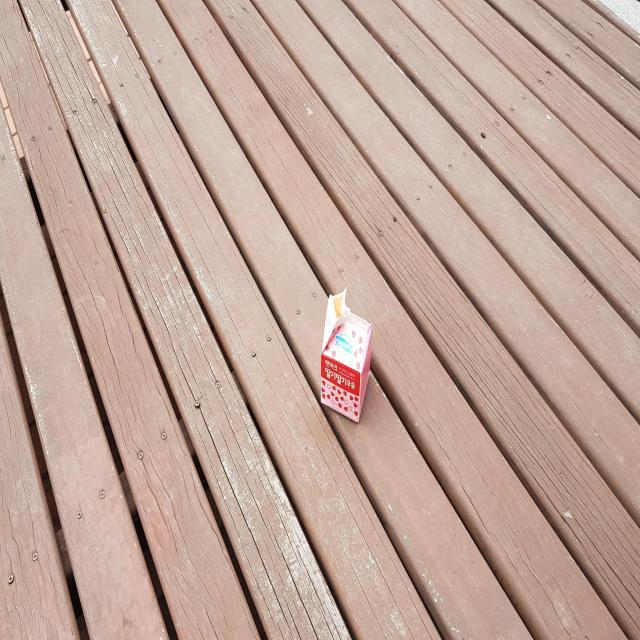paperpack: (321, 290, 372, 422)
